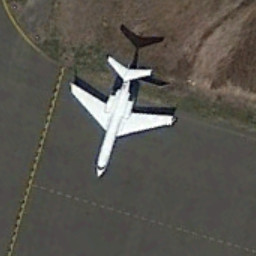Airplane: (61, 46, 180, 186)
